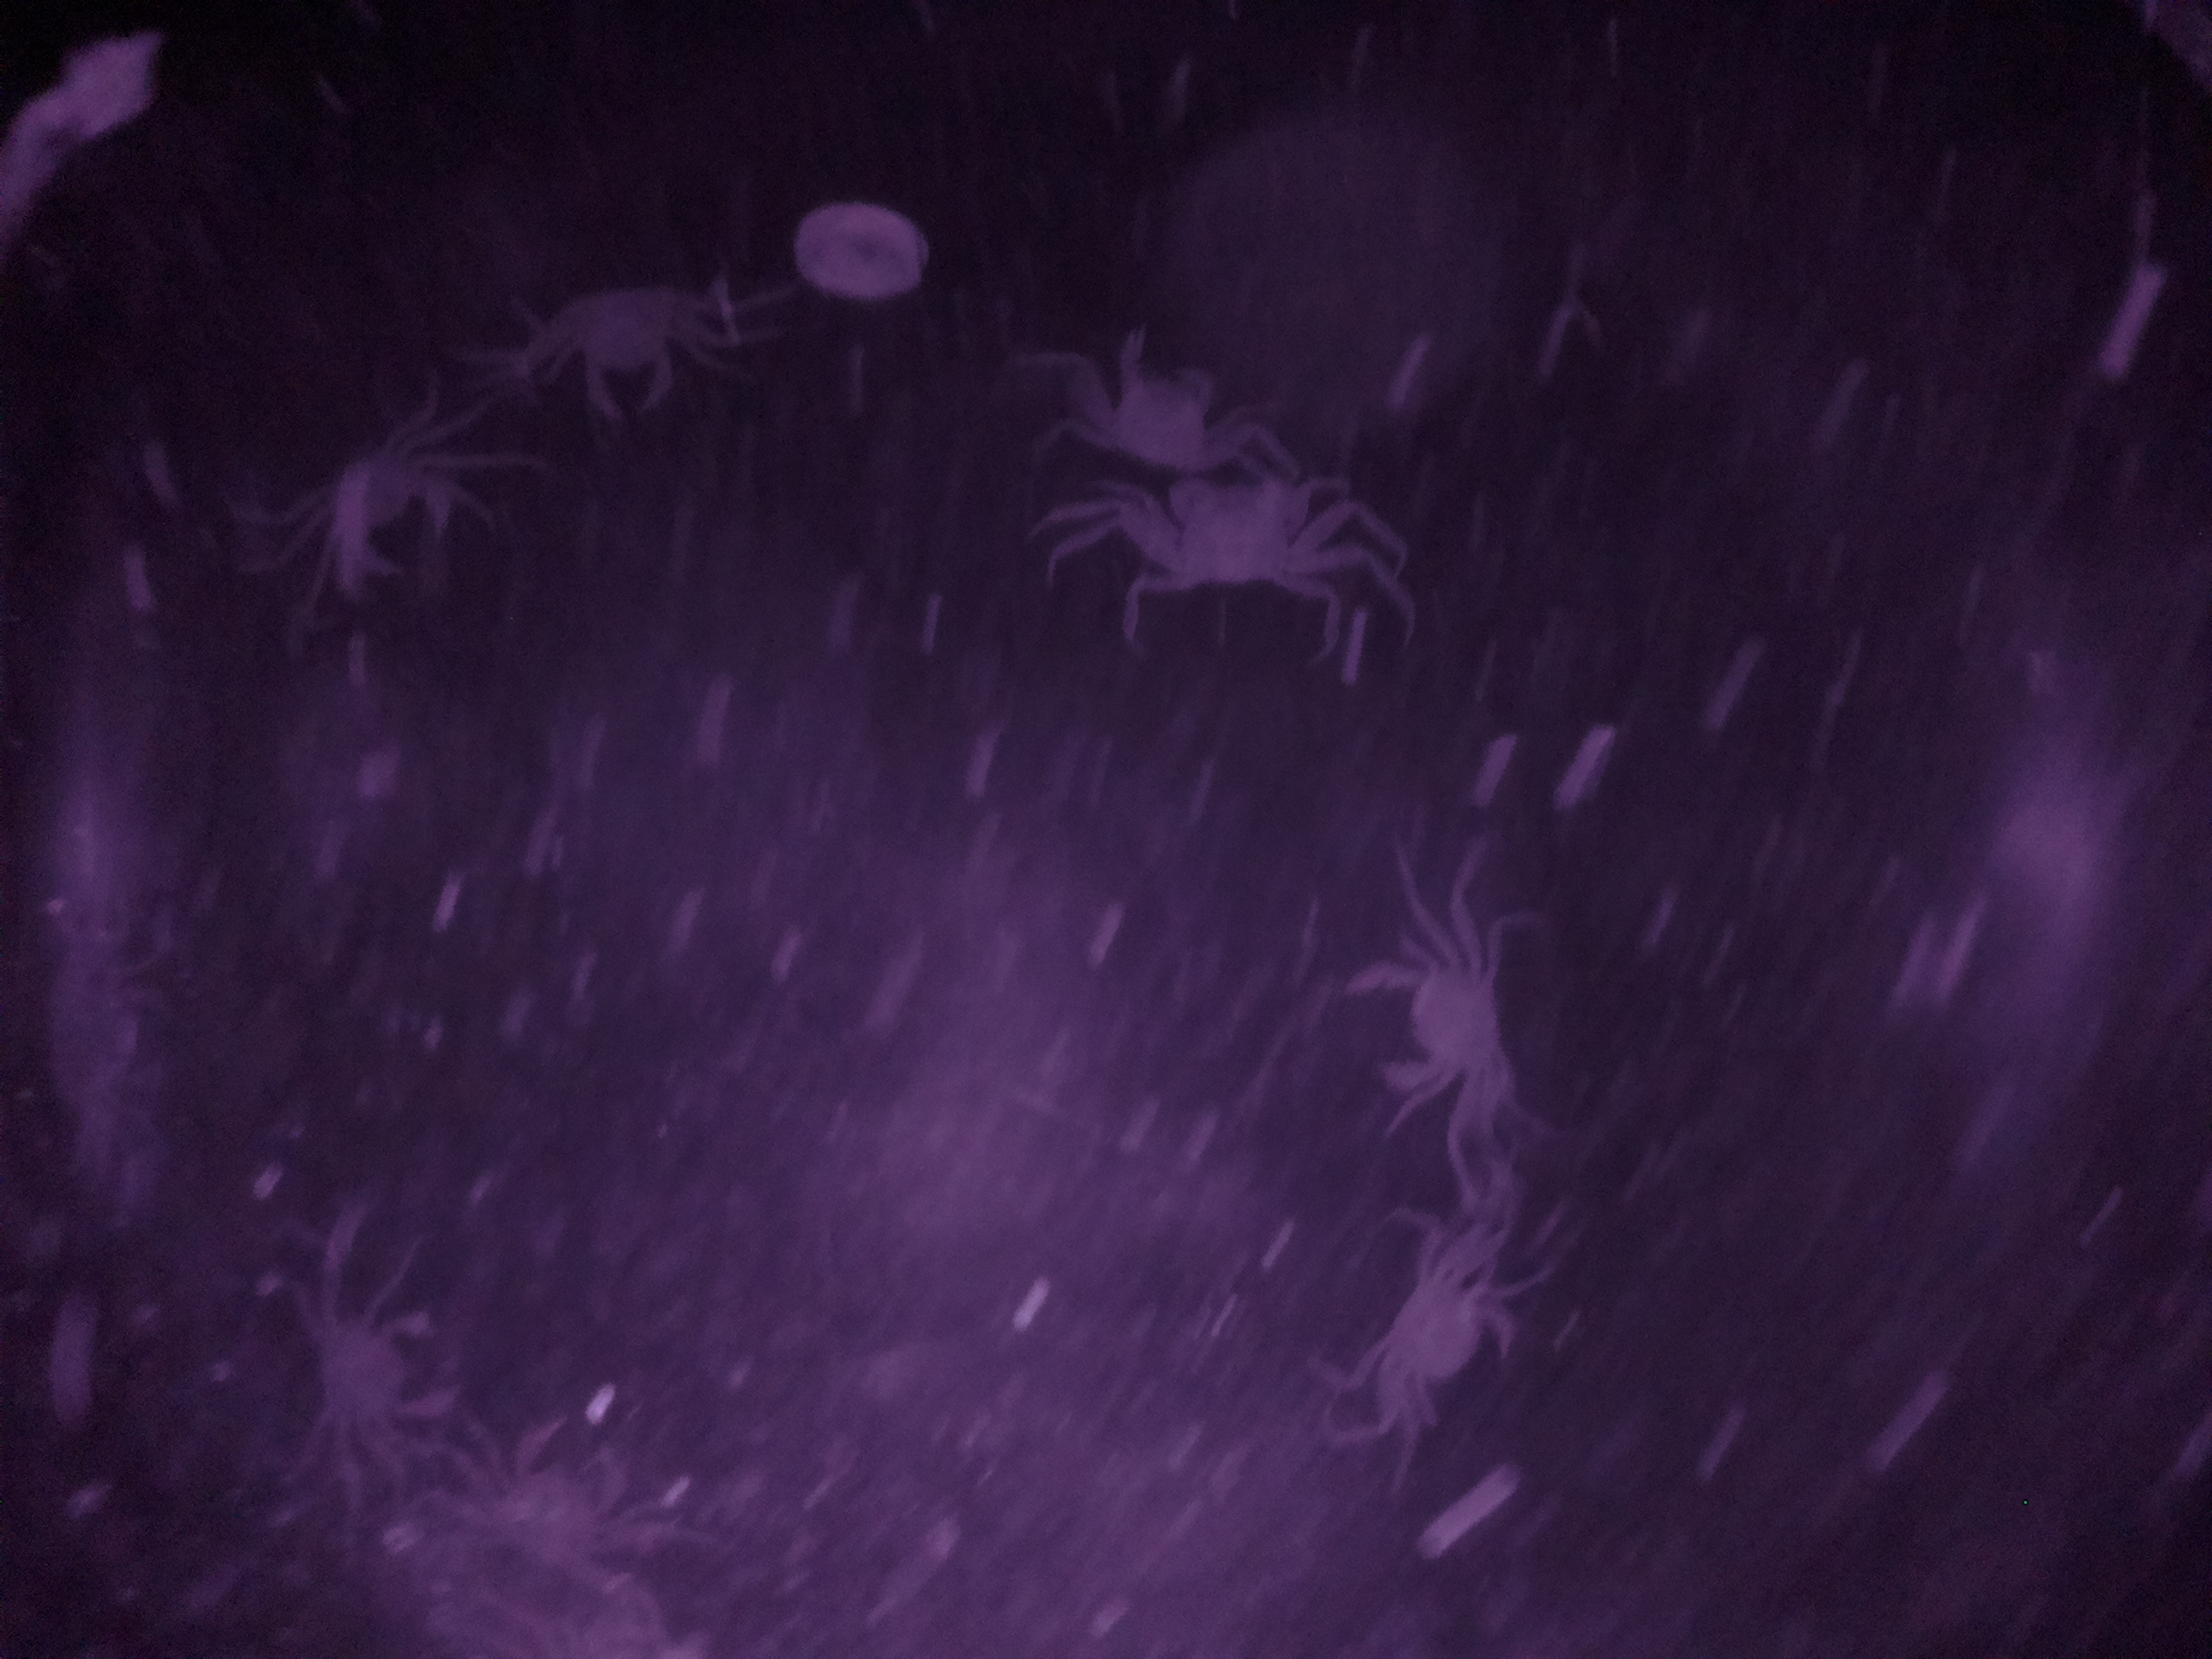Crab: (1338, 903, 1550, 1152), (1336, 1201, 1540, 1452), (507, 270, 754, 429), (1108, 467, 1346, 619)
